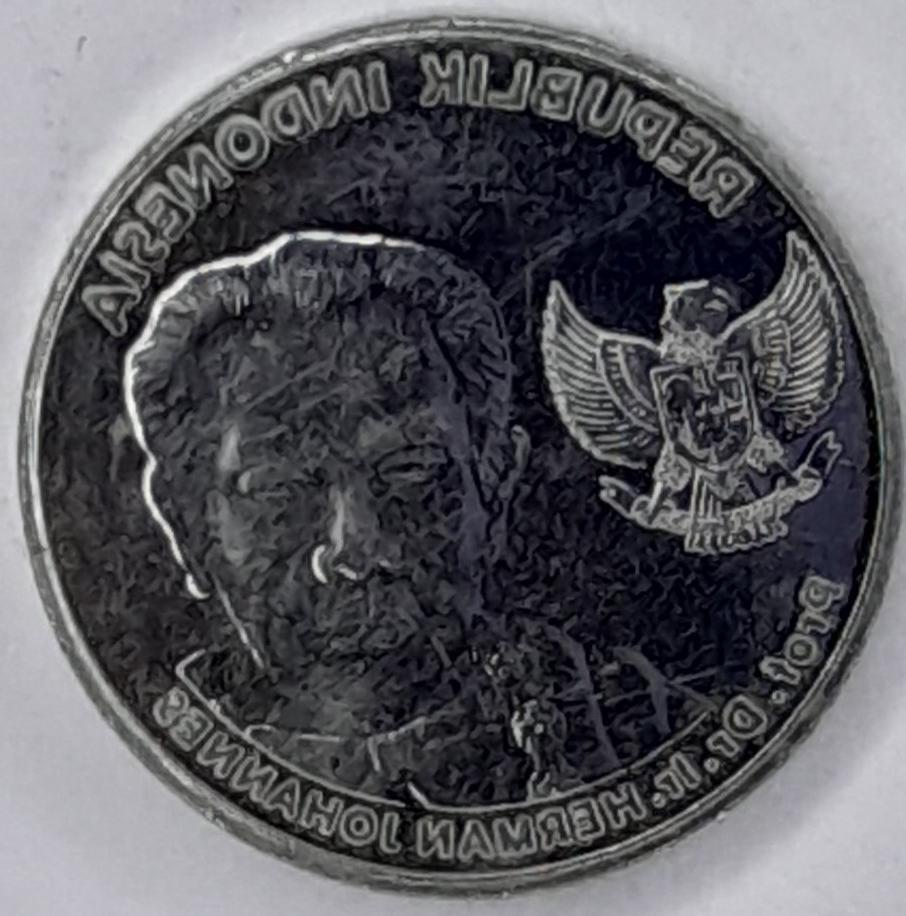coin_100_e2016: (13, 9, 904, 896)
